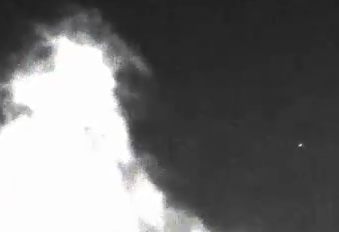Target: (298, 144, 301, 146)
